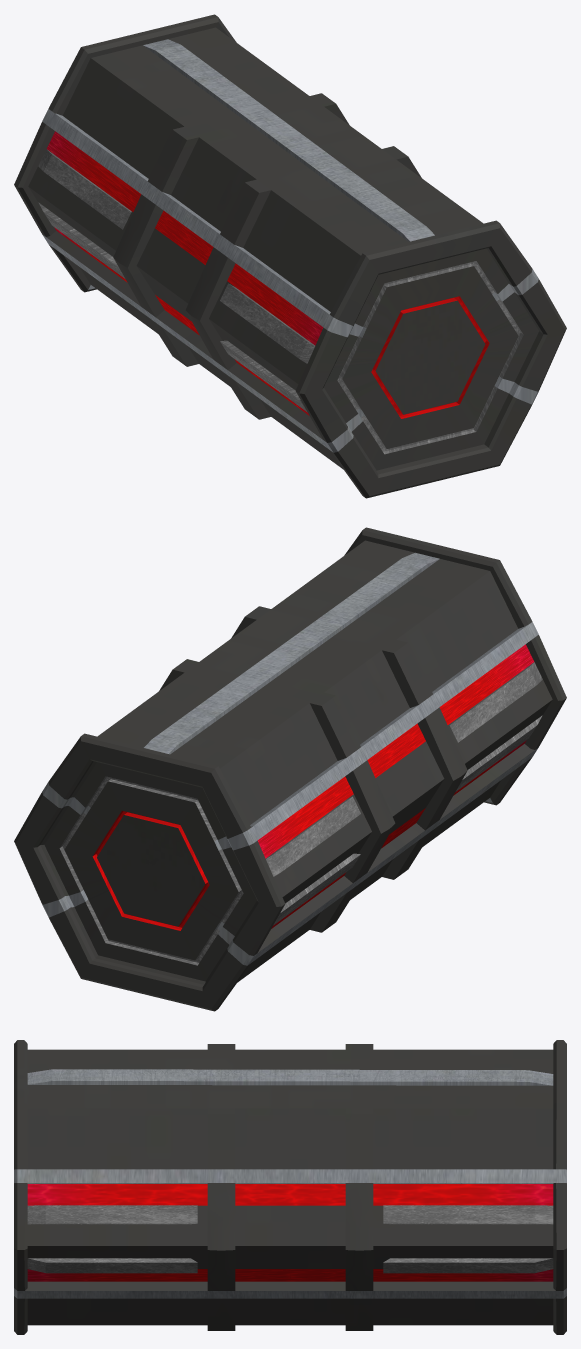
File: Container.fbx
3 renders of one model, top to bottom at view 1: azimuth 30°, elevation 25°; view 2: azimuth 150°, elevation 25°; view 3: azimuth 270°, elevation 25°, orthographic. The views are drawn at different scales.
Parts seen in each view (by area): view 1: StorageContainer; view 2: StorageContainer; view 3: StorageContainer.
Part boxes in pixels (x1=…): StorageContainer: x1=14, y1=14, x2=566, y2=498; StorageContainer: x1=14, y1=527, x2=566, y2=1011; StorageContainer: x1=14, y1=1040, x2=566, y2=1334.
Size of the model in its own units: 2.16 by 1.85 by 4.
Materials: 1 (1 with a texture image).
